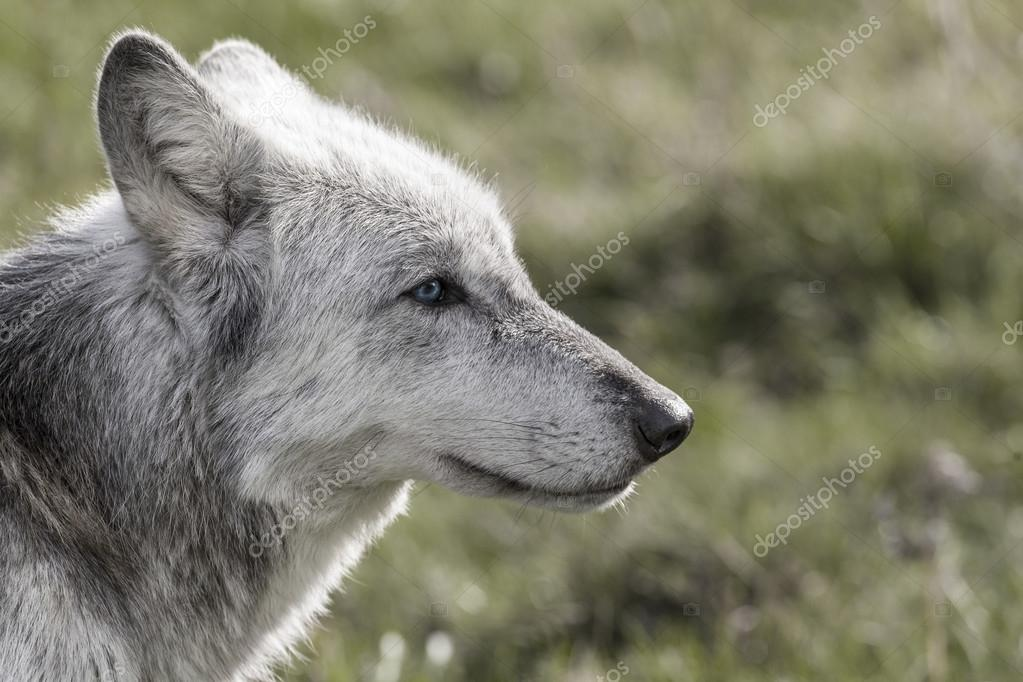Lobo: (43, 23, 705, 646)
